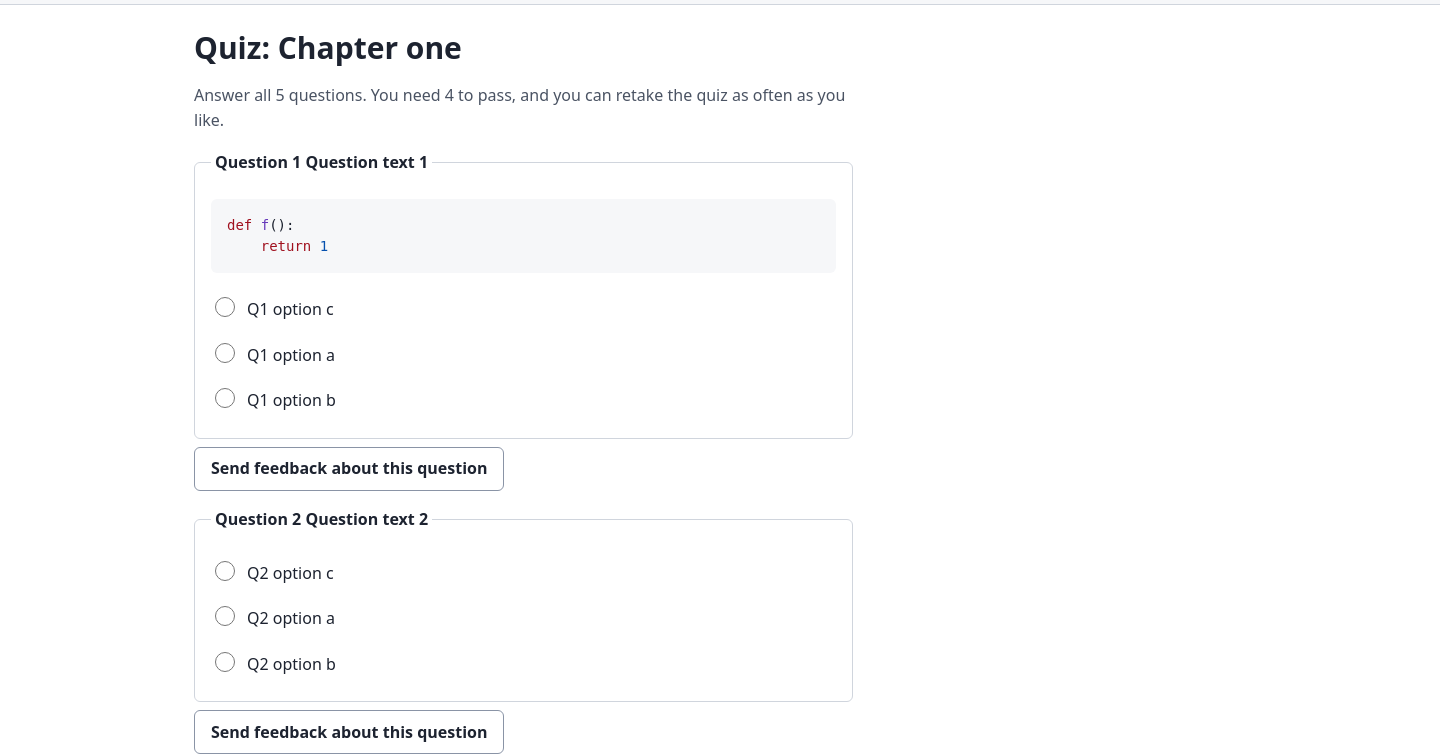
Test: taking the quiz › shows N of 5 answered, and Submit answers stays disabled until every question has an answer
Click the radio button labelled "Q1 option a": coordinates (225, 353) [215, 343, 235, 363]
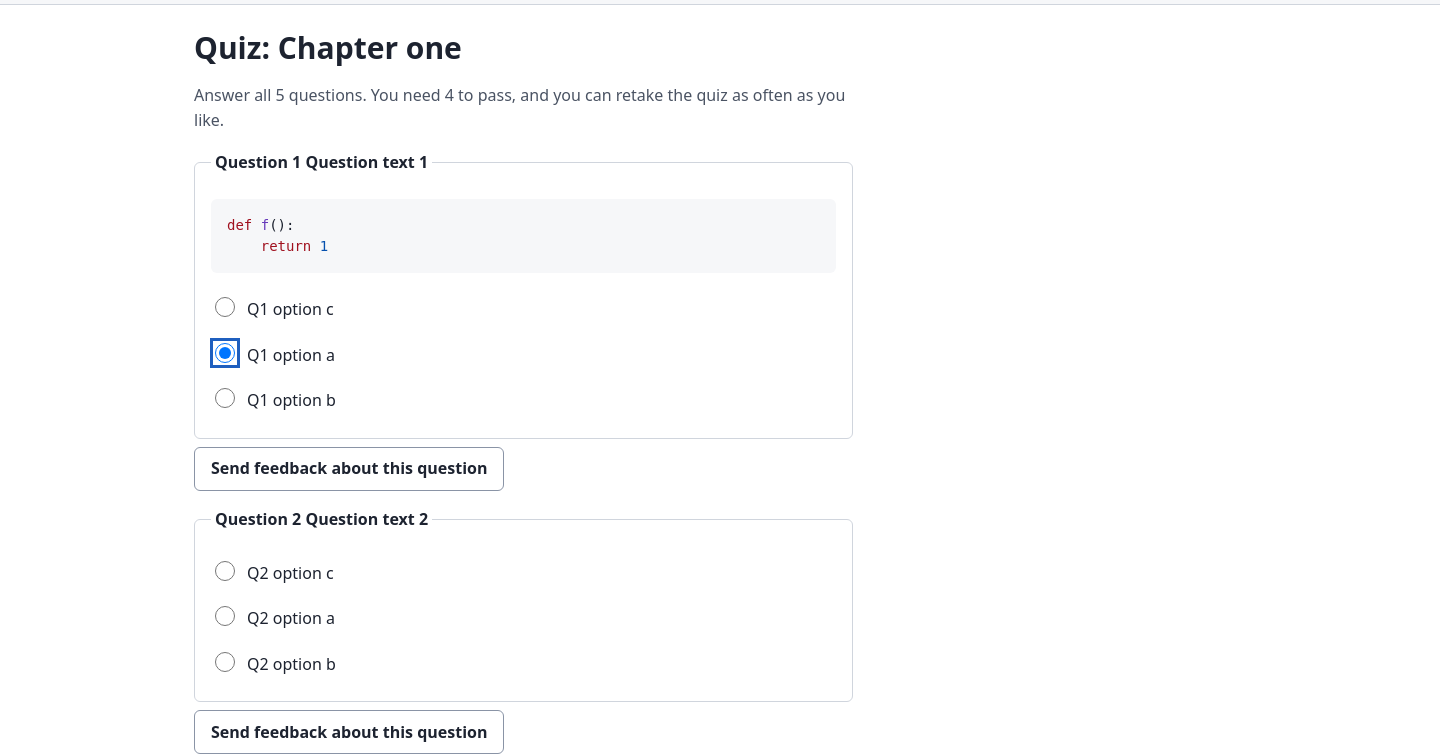
Click the radio button labelled "Q2 option b": coordinates (225, 662) [215, 652, 235, 672]
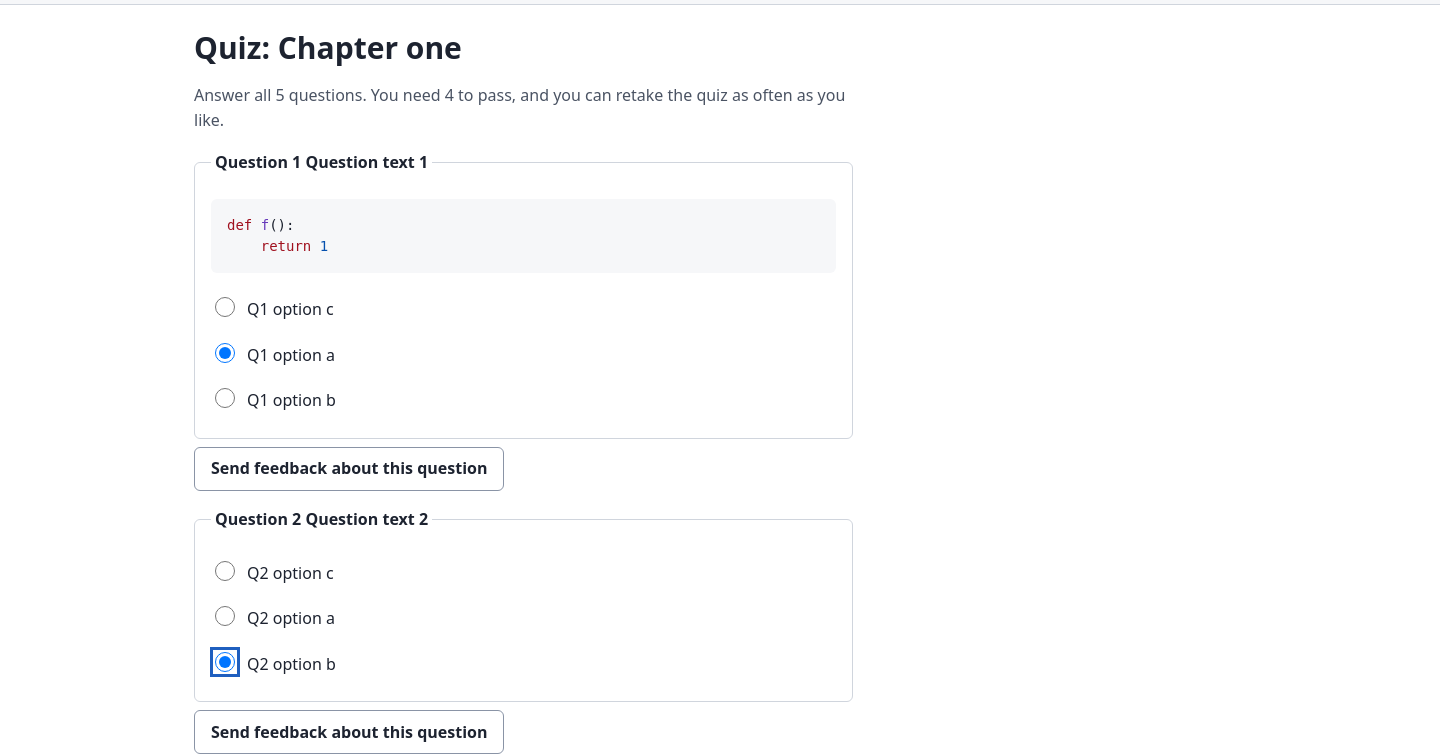
Click the radio button labelled "Q2 option c": coordinates (225, 571) [215, 561, 235, 581]
(page scrolled)
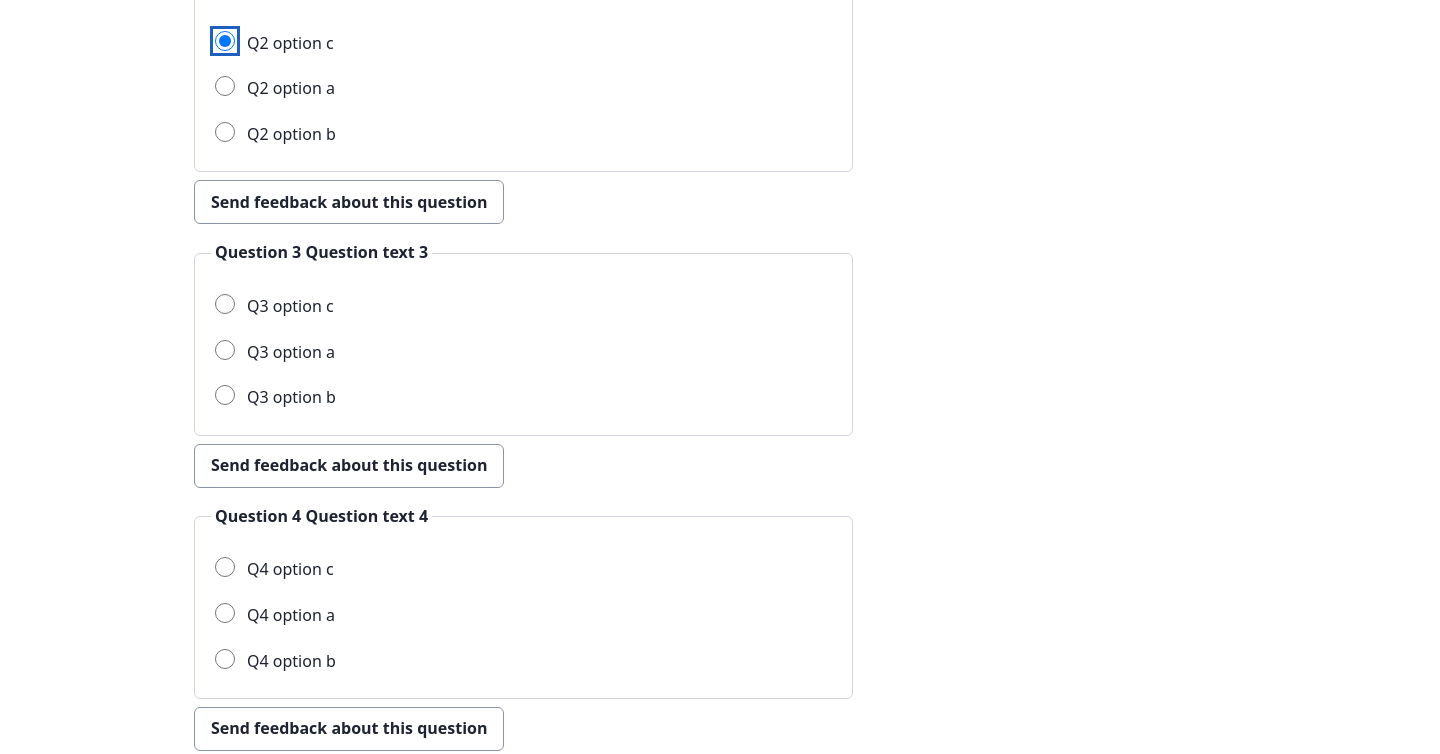
Click the radio button labelled "Q3 option a": coordinates (225, 350) [215, 340, 235, 360]
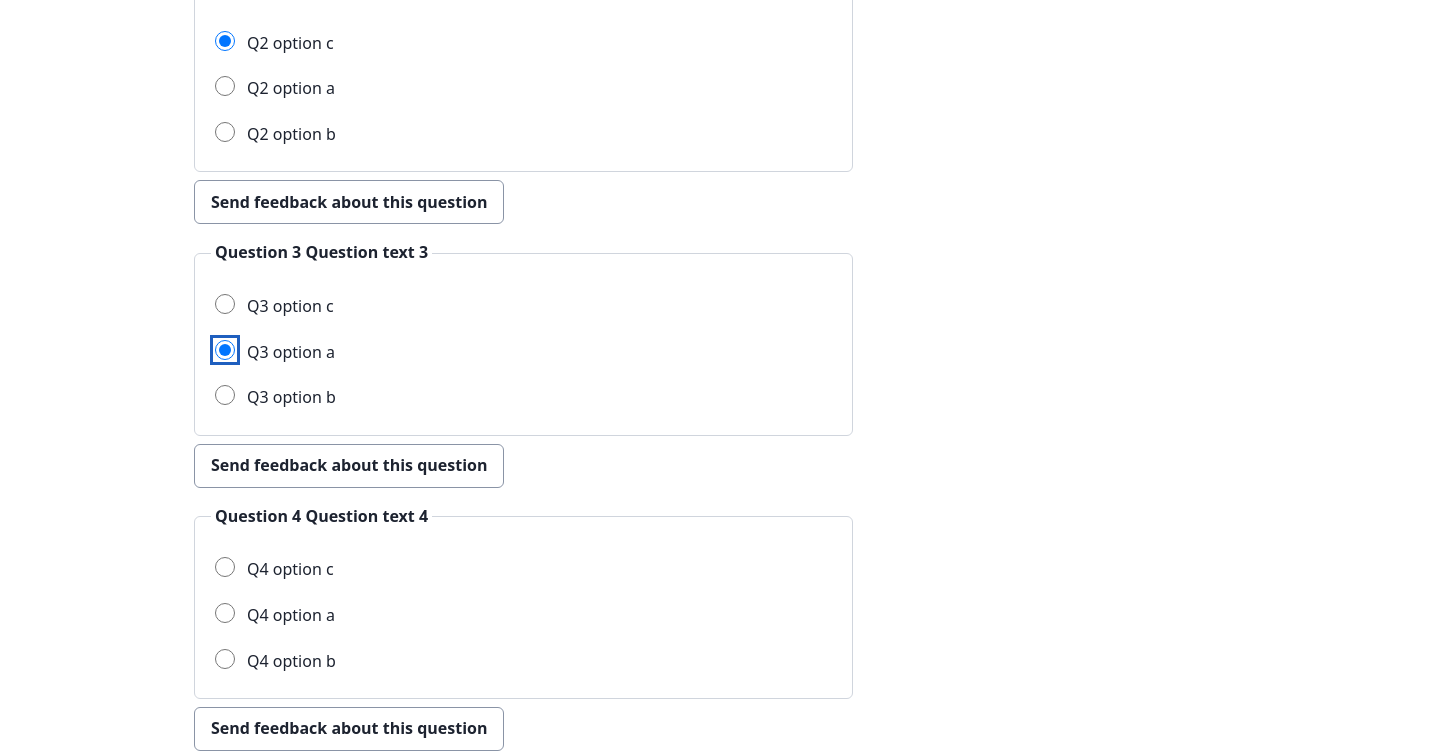
Click the radio button labelled "Q4 option a": coordinates (225, 613) [215, 603, 235, 623]
(page scrolled)
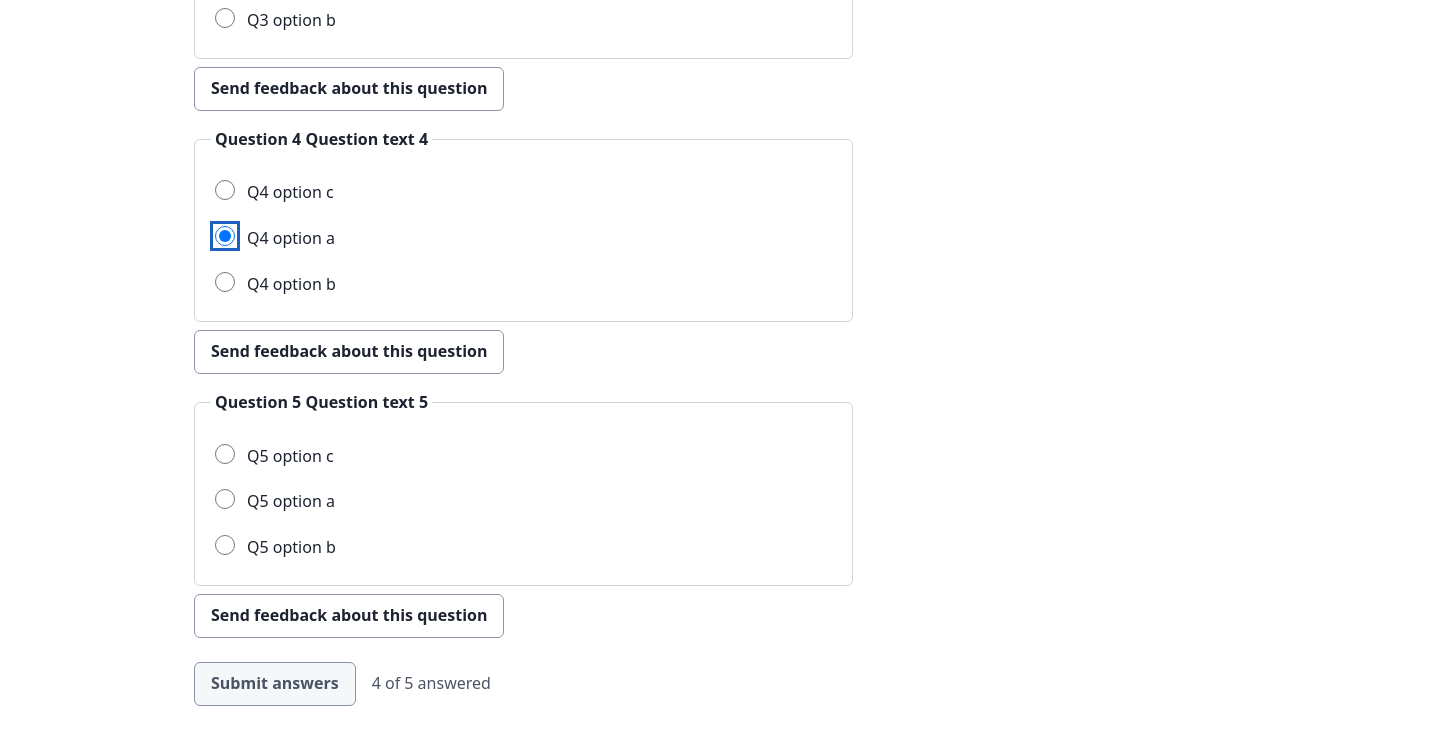
expect the button "Submit answers" is disabled: met, box [194, 662, 356, 706]
Click the radio button labelled "Q5 option a": coordinates (225, 499) [215, 489, 235, 509]
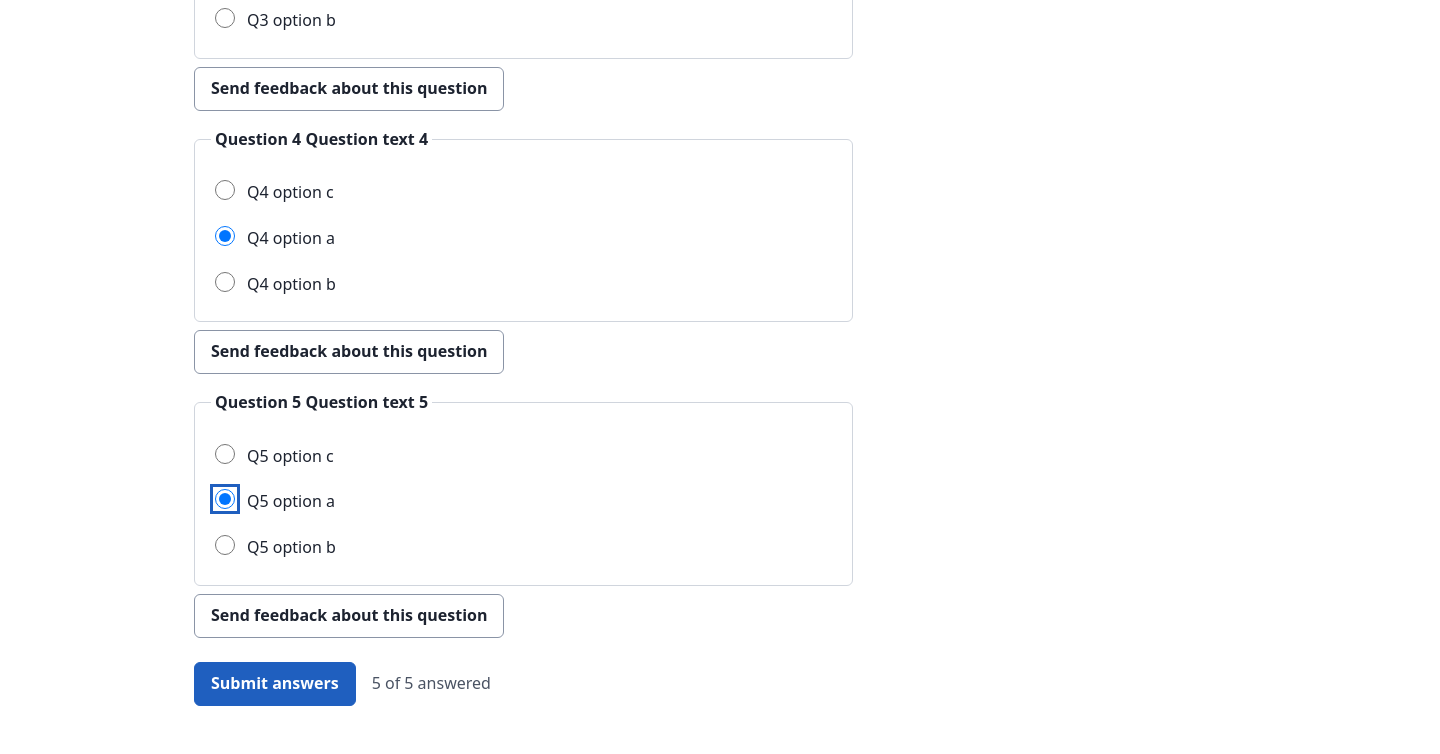
expect the text "5 of 5 answered" is shown: met, box [372, 671, 491, 696]
expect the button "Submit answers" is enabled: met, box [194, 662, 356, 706]
